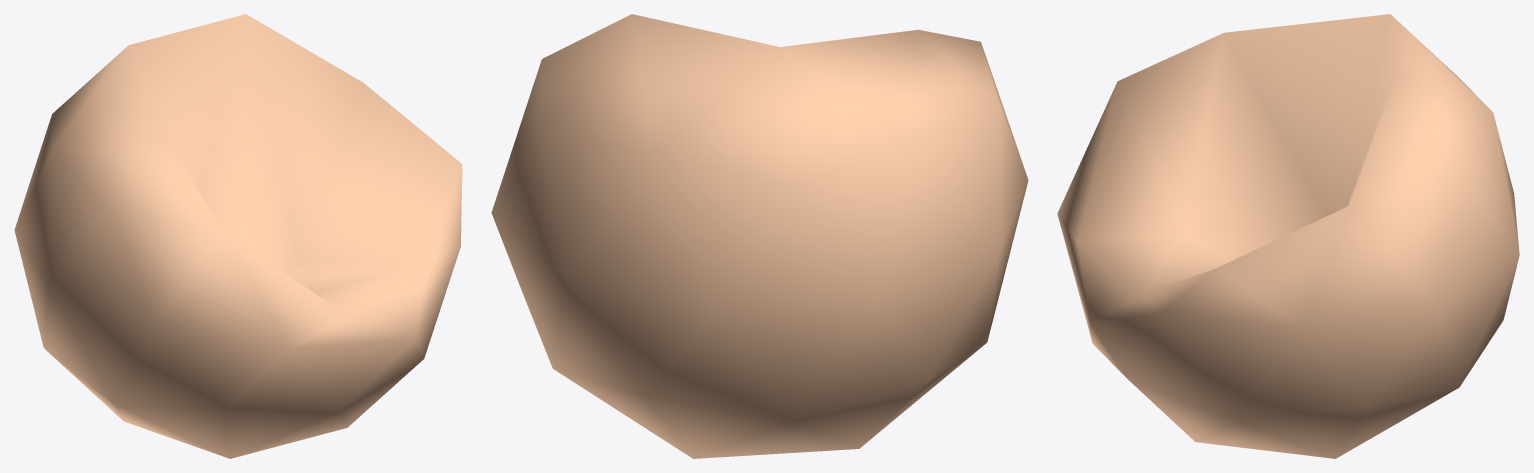
Rendered from sofa.gltf.
3 renders of one model, left to right at view 1: azimuth 30°, elevation 25°; view 2: azimuth 150°, elevation 25°; view 3: azimuth 270°, elevation 25°, orthographic. The views are drawn at different scales.
Visible parts, largest first — view 1: Bean bag; view 2: Bean bag; view 3: Bean bag.
Boxes of the visible parts, x1=… form: Bean bag: x1=14, y1=14, x2=462, y2=458; Bean bag: x1=491, y1=14, x2=1028, y2=458; Bean bag: x1=1057, y1=14, x2=1519, y2=458.
Bounding box in the file's own units: 2 × 1.85 × 1.96.
